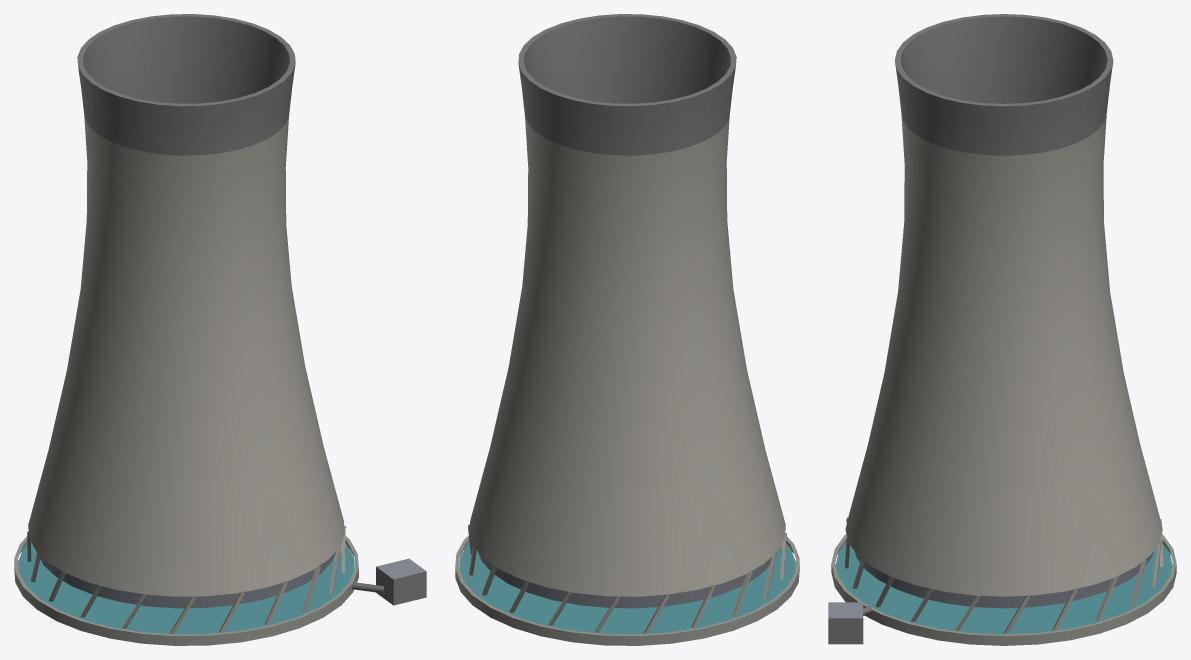
The model's file is mashup-cooling-top-prebuilt.fbx.
3 renders of one model, left to right at view 1: azimuth 30°, elevation 25°; view 2: azimuth 150°, elevation 25°; view 3: azimuth 270°, elevation 25°, orthographic.
Visible parts, largest first — view 1: a1057/0/mashup-cooling-top-prebuilt; view 2: a1057/0/mashup-cooling-top-prebuilt; view 3: a1057/0/mashup-cooling-top-prebuilt.
Boxes of the visible parts, left/top/right/bottom form: a1057/0/mashup-cooling-top-prebuilt: left=14, top=14, right=426, bottom=645; a1057/0/mashup-cooling-top-prebuilt: left=455, top=14, right=799, bottom=645; a1057/0/mashup-cooling-top-prebuilt: left=828, top=14, right=1176, bottom=645.
Size of the model in its own units: 54.5 by 88.5 by 54.5.
